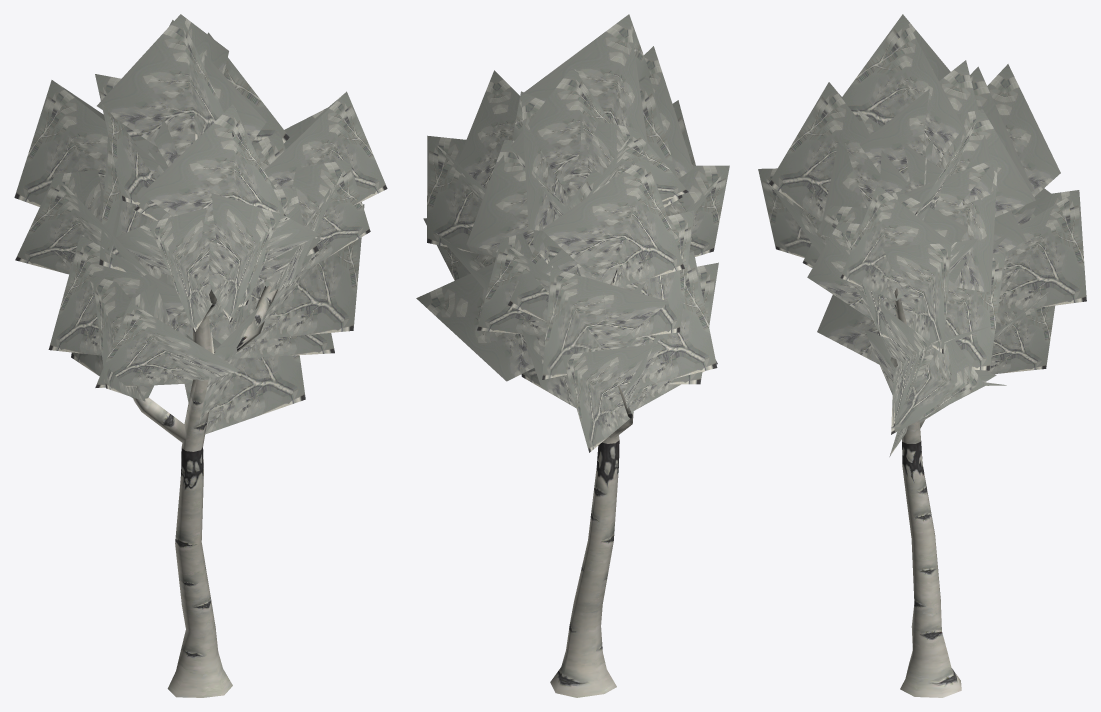
Rendered from Birch_Winter.glb.
3 views of the same model, side by side, from view 1: azimuth 30°, elevation 25°; view 2: azimuth 150°, elevation 25°; view 3: azimuth 270°, elevation 25° (orthographic). The views are drawn at different scales.
Visible parts, largest first — view 1: Birch_Winter; view 2: Birch_Winter; view 3: Birch_Winter.
Boxes of the visible parts, x1,y1,x2,y2 form: Birch_Winter: (14,14,387,697); Birch_Winter: (416,14,729,697); Birch_Winter: (758,14,1086,697).
Size of the model in its own units: 21.63 by 45.97 by 20.89.
1 material, 1 textured.
